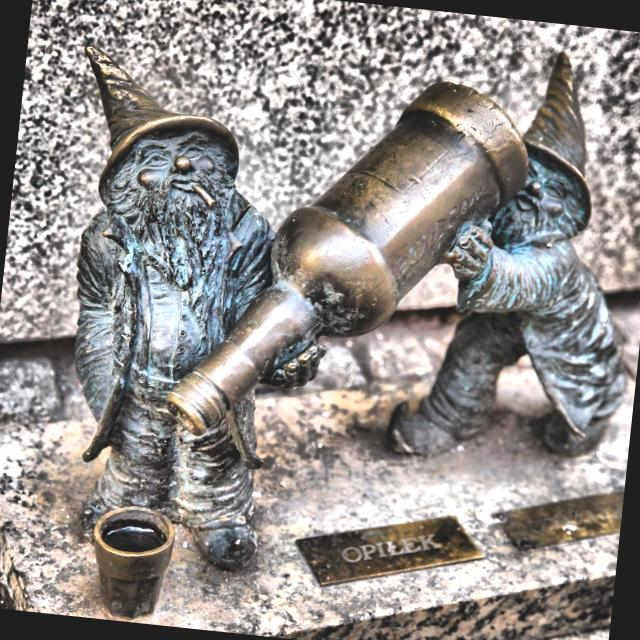Ogorzalek_i_Opilek: (75, 47, 625, 569)
